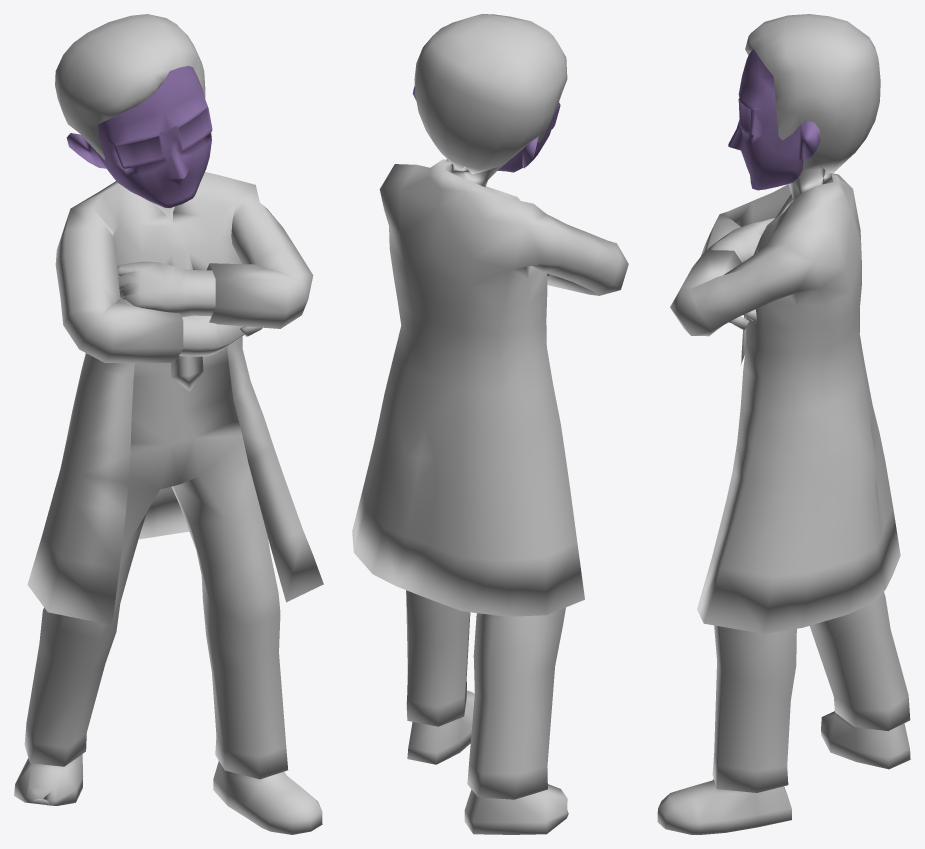
File: T_Scientist.obj
3 renders of one model, left to right at view 1: azimuth 30°, elevation 25°; view 2: azimuth 150°, elevation 25°; view 3: azimuth 270°, elevation 25°, orthographic. The views are drawn at different scales.
Visible parts, largest first — view 1: tr0086_00; view 2: tr0086_00; view 3: tr0086_00.
Boxes of the visible parts, x1=… form: tr0086_00: x1=14, y1=14, x2=323, y2=834; tr0086_00: x1=352, y1=14, x2=628, y2=834; tr0086_00: x1=657, y1=14, x2=910, y2=834.
Size of the model in its own units: 0.5192 by 1.52 by 0.462.
